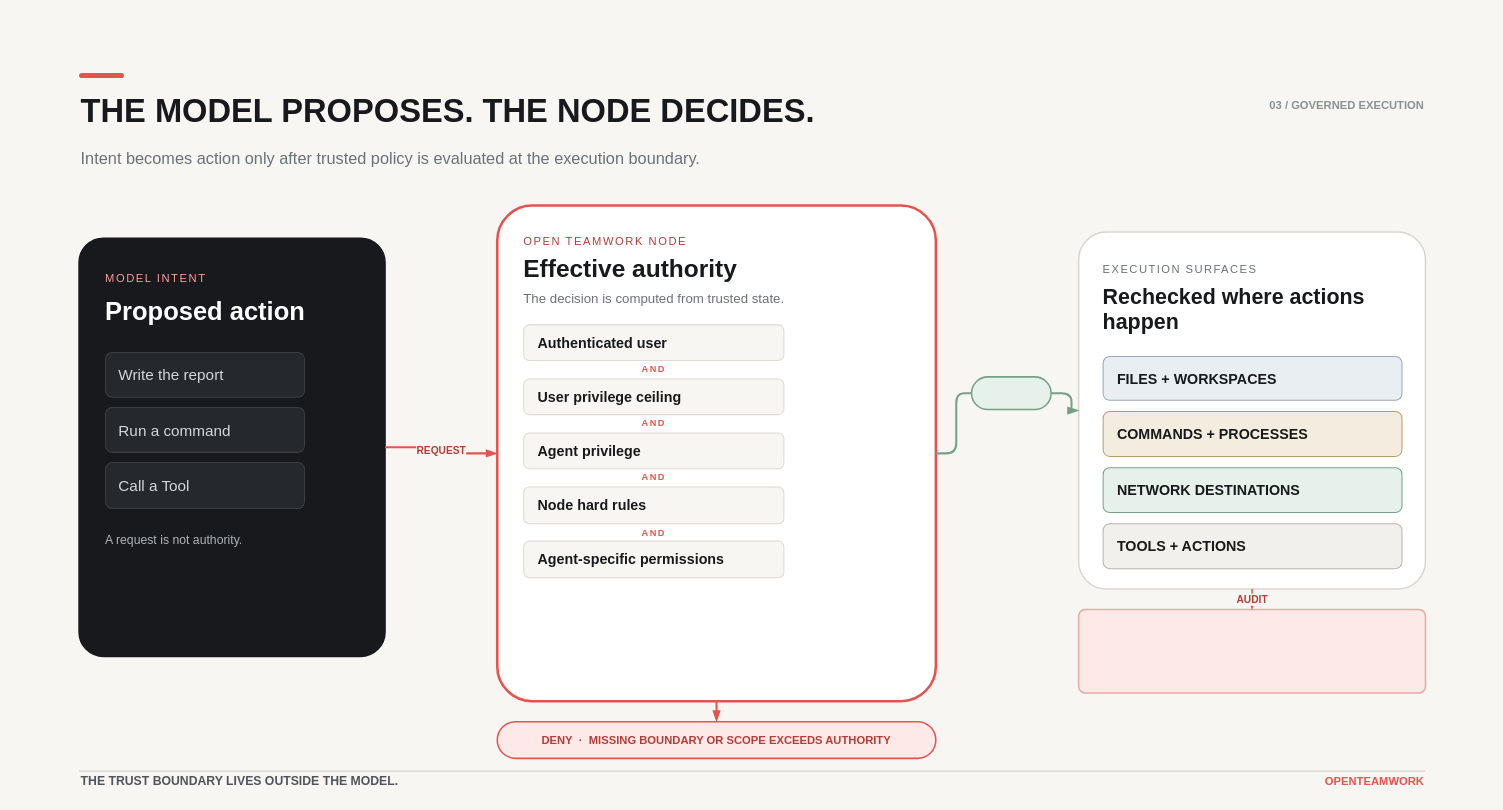
This 1503x810 diagram has some shape labels left out. The centre of each missing label's shape, as x and y in pixels:
"ALLOW" belongs at point (1010, 393).
"DURABLE EVIDENCE Actor · Agent · policy · outcome" belongs at point (1251, 650).
